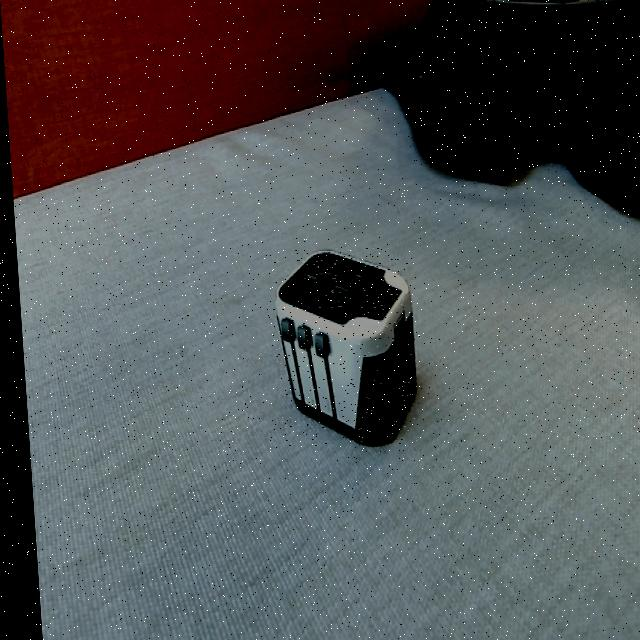adapter: (266, 248, 415, 446)
